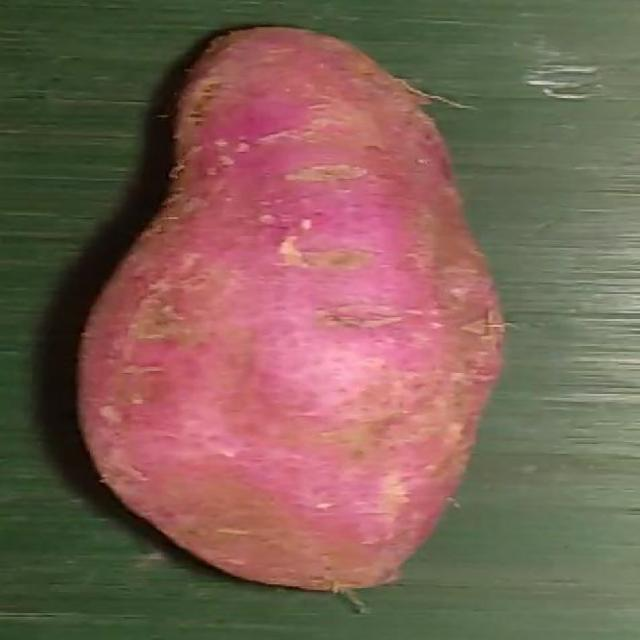Sweet Potato: (77, 26, 506, 597)
